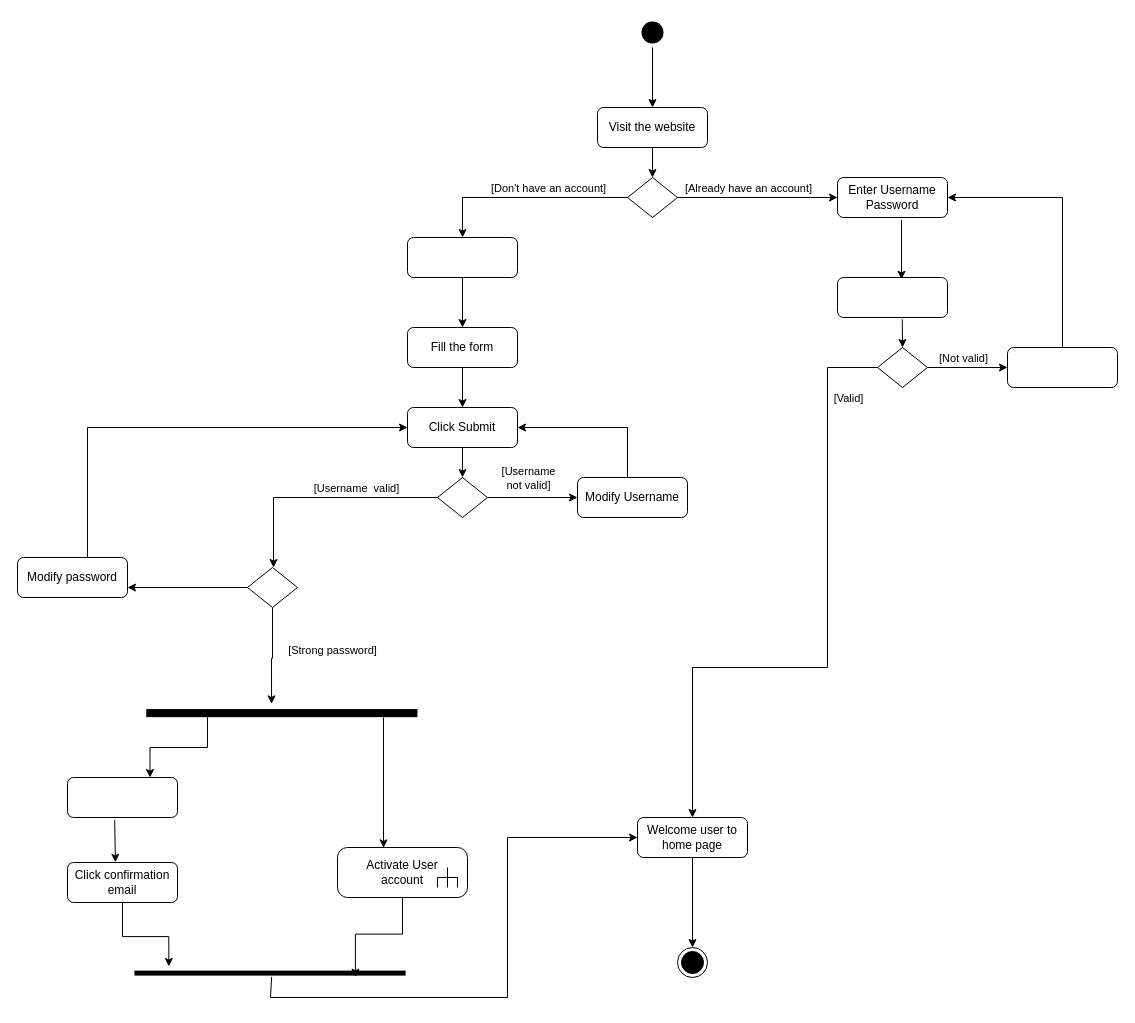
The diagram is 1135 pixels wide and 1023 high, and some of its shapes have lost their labels. Each missing label, with the centre of its shape:
"Click signup" belongs at point (462, 257).
"Display Error message" belongs at point (1062, 367).
"Send confirmation email" belongs at point (122, 797).
"Validate User" belongs at point (892, 297).
